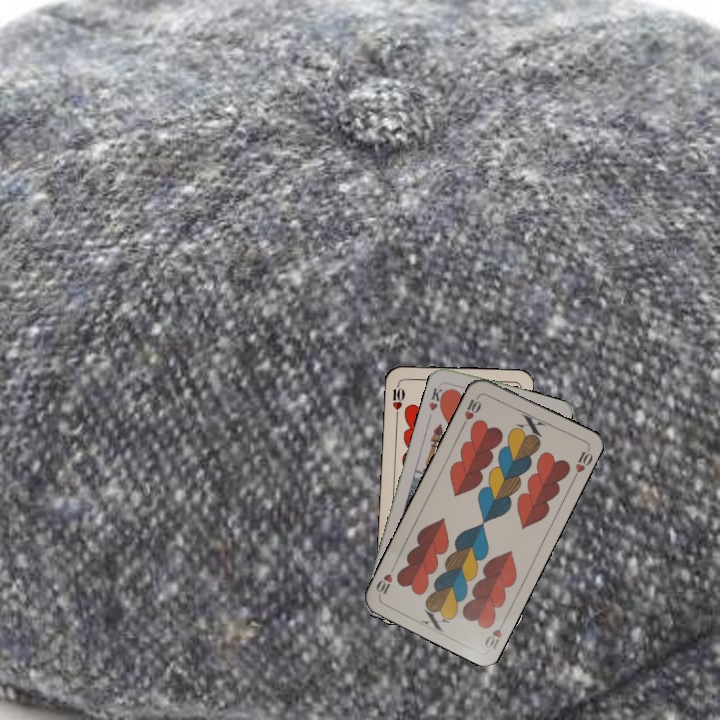H10: (480, 615, 509, 652), (458, 391, 484, 429), (388, 379, 407, 419)
HK: (425, 380, 449, 413)
